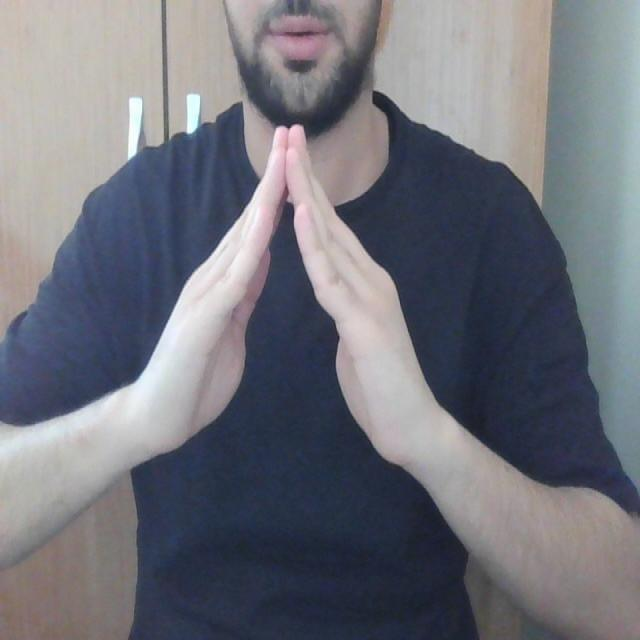Ev: (128, 110, 437, 480)
